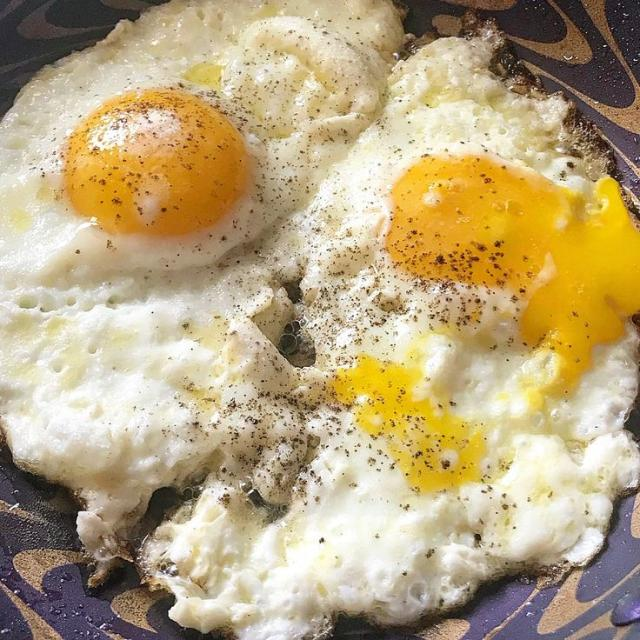fryed egg: (144, 39, 639, 639), (0, 0, 402, 559)
